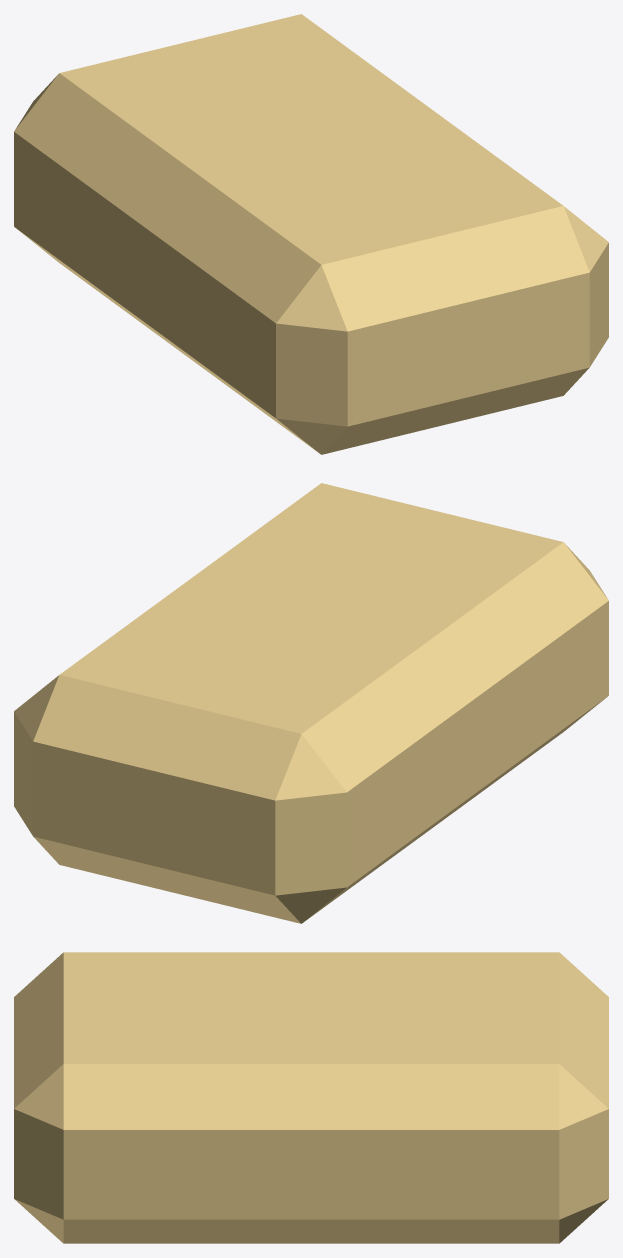
File: ic_item_ingot.glb
The picture shows the model from 3 angles, top to bottom: view 1: azimuth 30°, elevation 25°; view 2: azimuth 150°, elevation 25°; view 3: azimuth 270°, elevation 25°; orthographic projection. The views are drawn at different scales.
Parts seen in each view (by area): view 1: ic_item_ingot; view 2: ic_item_ingot; view 3: ic_item_ingot.
Part boxes in pixels (box(x1,y1,x2,y2)): ic_item_ingot: box(14, 14, 608, 454); ic_item_ingot: box(14, 483, 608, 923); ic_item_ingot: box(14, 952, 608, 1243).
Size of the model in its own units: 0.22 by 0.12 by 0.36.
